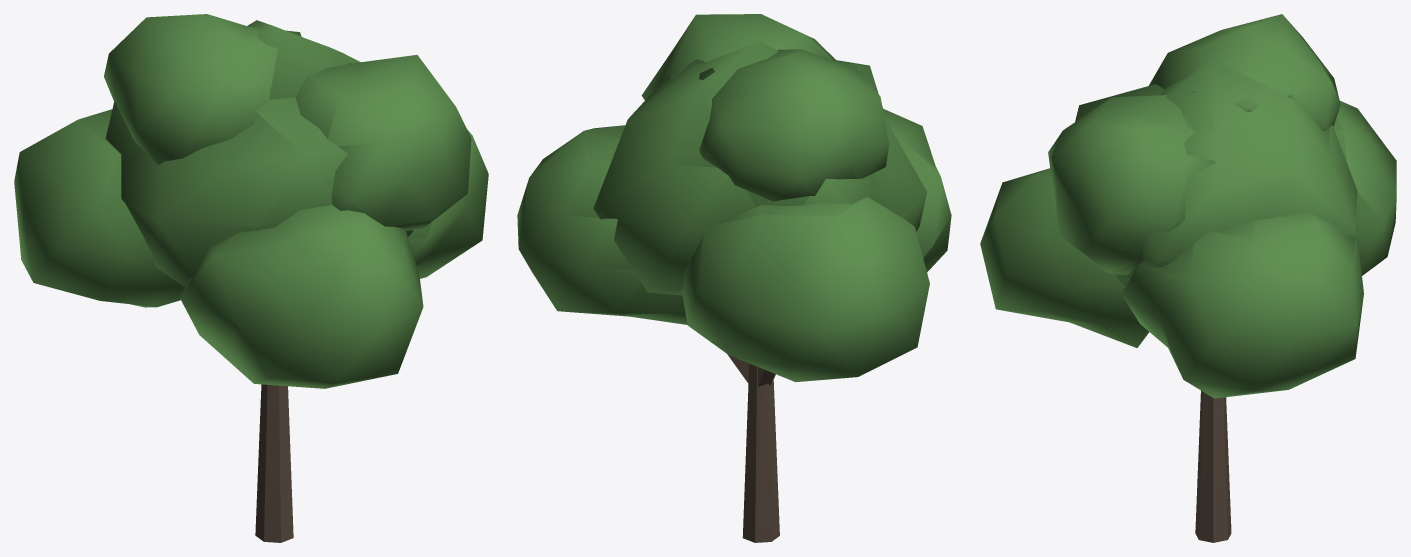
The model's file is arbre0.glb.
3 renders of one model, left to right at view 1: azimuth 30°, elevation 25°; view 2: azimuth 150°, elevation 25°; view 3: azimuth 270°, elevation 25°, orthographic. The views are drawn at different scales.
Parts seen in each view (by area): view 1: arbre0; view 2: arbre0; view 3: arbre0.
Boxes of the visible parts, x1,y1,x2,y2 form: arbre0: (14, 14, 488, 542); arbre0: (517, 14, 951, 542); arbre0: (980, 14, 1396, 542).
Size of the model in its own units: 10.15 by 12.12 by 9.44.
